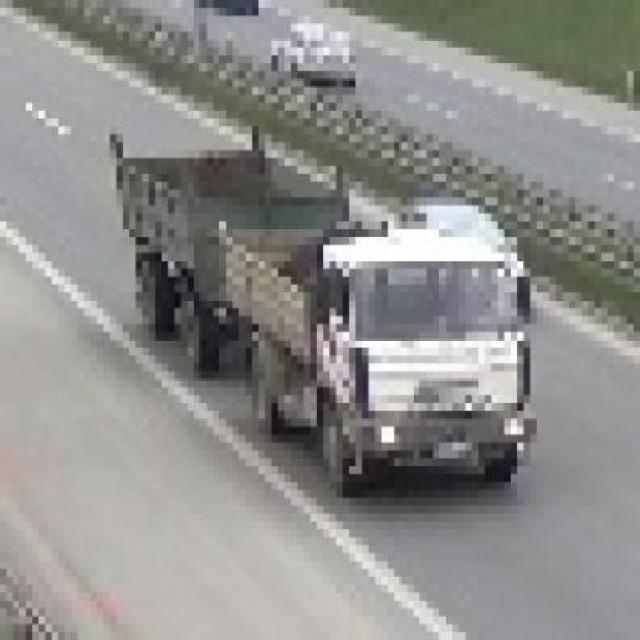truck: (117, 103, 545, 491)
